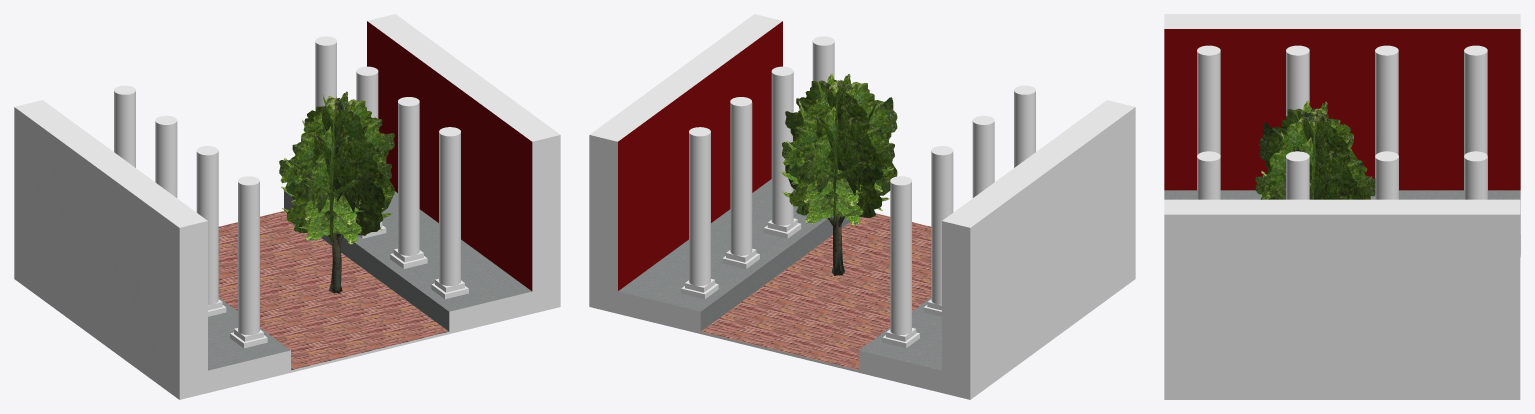
File: CollegeRun_treeRight.dae
3 views of the same model, side by side, from view 1: azimuth 30°, elevation 25°; view 2: azimuth 150°, elevation 25°; view 3: azimuth 270°, elevation 25° (orthographic). The views are drawn at different scales.
Visible parts, largest first — view 1: SketchUp (×13), boomkroon (×7), Tree_1; view 2: SketchUp (×13), boomkroon (×8), Tree_1; view 3: SketchUp (×11), boomkroon (×7).
Part boxes in pixels (bbox=[...]): SketchUp (×13): bbox=[14, 14, 560, 399]; boomkroon (×7): bbox=[280, 97, 394, 242]; Tree_1: bbox=[329, 233, 342, 293]; SketchUp (×13): bbox=[589, 14, 1135, 399]; boomkroon (×8): bbox=[783, 80, 897, 223]; Tree_1: bbox=[831, 216, 844, 275]; SketchUp (×11): bbox=[1164, 14, 1520, 399]; boomkroon (×7): bbox=[1259, 107, 1375, 199].
Bounding box in the file's own units: 480 × 360 × 237.
